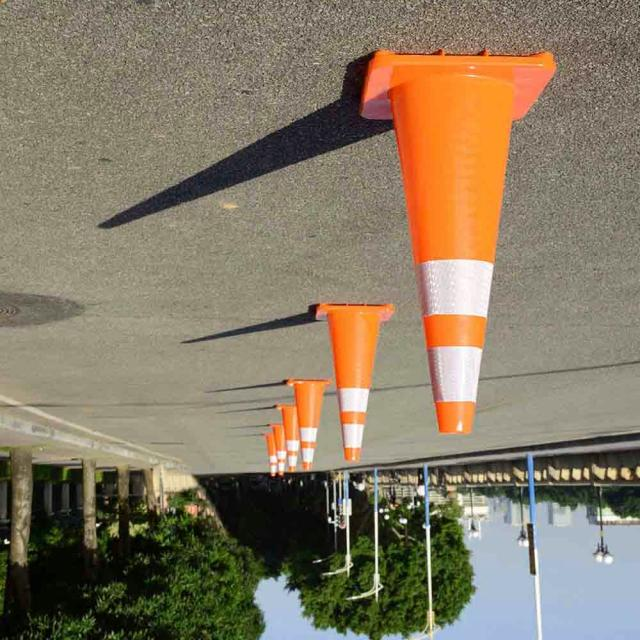cone: (371, 67, 528, 450), (305, 307, 387, 458), (287, 379, 321, 473), (286, 407, 310, 476), (265, 429, 286, 481), (268, 420, 283, 468)
